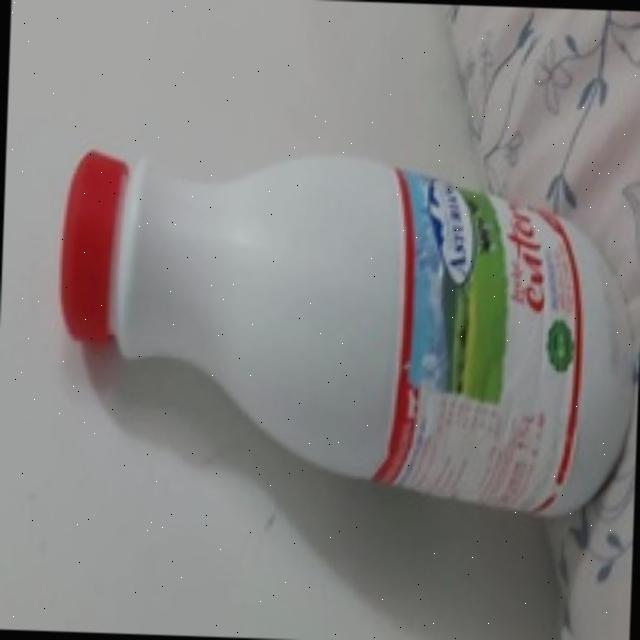bottle: (55, 141, 640, 504)
cap: (54, 134, 133, 346)
label: (369, 148, 590, 538)
